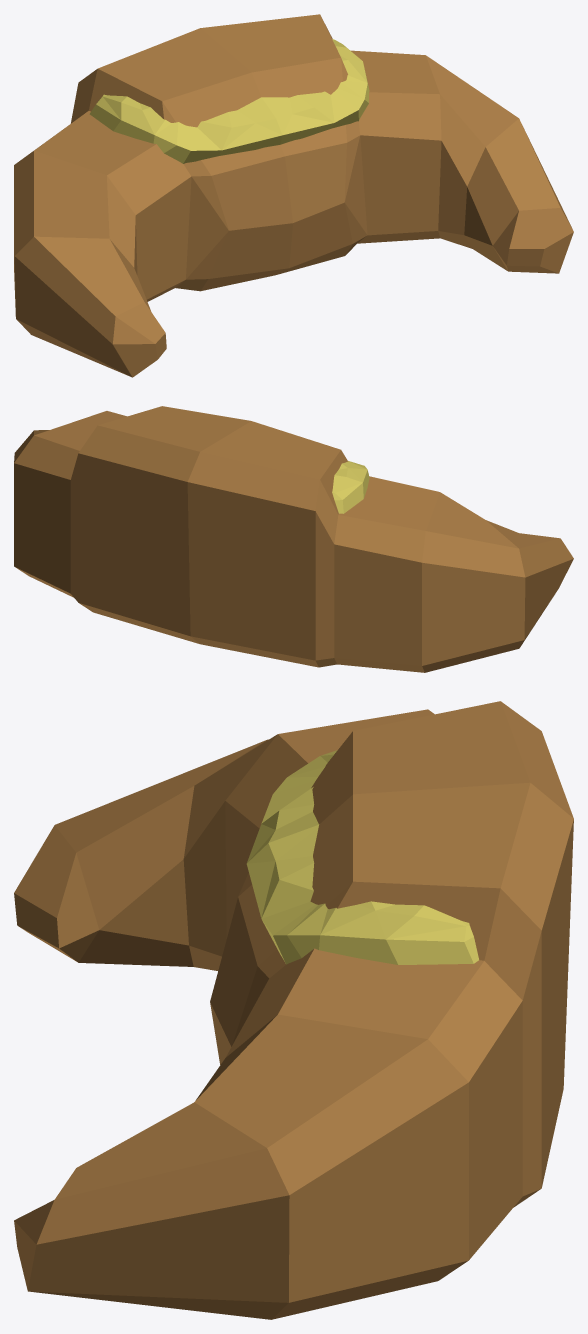
Rendered from croissant_2.fbx.
3 renders of one model, top to bottom at view 1: azimuth 30°, elevation 25°; view 2: azimuth 150°, elevation 25°; view 3: azimuth 270°, elevation 25°, orthographic. The views are drawn at different scales.
Visible parts, largest first — view 1: croissant_2; view 2: croissant_2; view 3: croissant_2.
Boxes of the visible parts, box(x1,y1,x2,y2) form: croissant_2: box(14, 14, 573, 377); croissant_2: box(14, 406, 573, 672); croissant_2: box(14, 701, 573, 1319).
Size of the model in its own units: 15.15 by 5.45 by 8.34.
